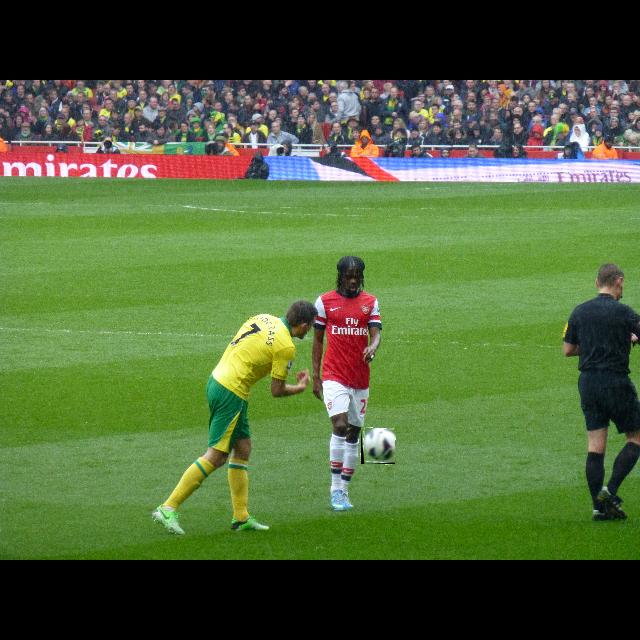Football: (361, 428, 395, 464)
